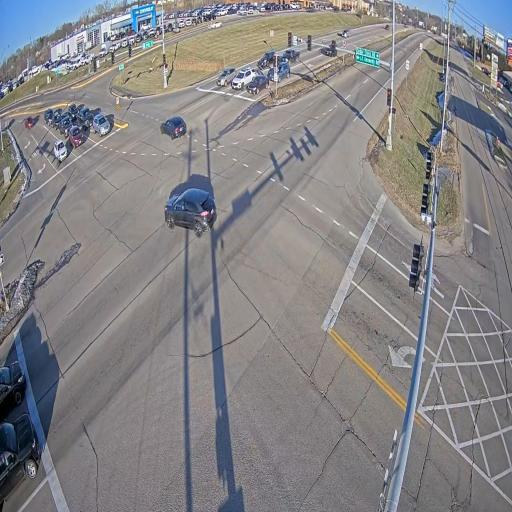pickup: (0, 413, 41, 512), (77, 107, 94, 129), (59, 114, 73, 138), (280, 48, 300, 63)
sedan: (161, 116, 186, 139), (246, 74, 269, 94), (25, 117, 34, 128), (0, 29, 10, 34)
suv: (165, 188, 217, 237), (0, 361, 27, 405), (232, 68, 257, 89), (267, 61, 290, 82), (93, 114, 111, 136), (216, 67, 235, 86), (54, 139, 68, 162), (69, 126, 84, 147), (258, 50, 275, 66), (322, 40, 337, 56), (67, 103, 79, 121), (51, 111, 61, 129), (44, 109, 54, 126), (341, 29, 350, 37)
